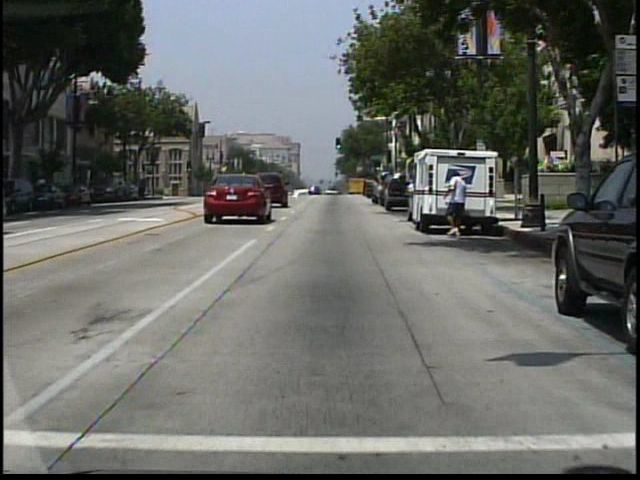person: (441, 169, 474, 240), (378, 173, 379, 211)
